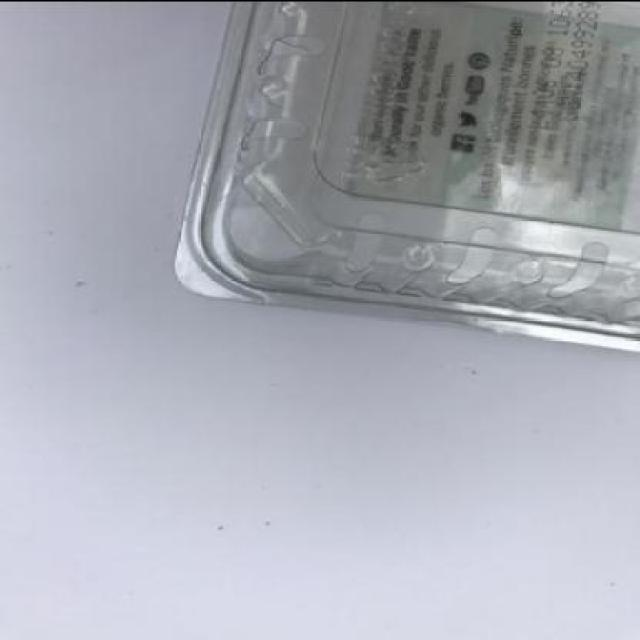PLASTIC: (170, 1, 638, 354)
